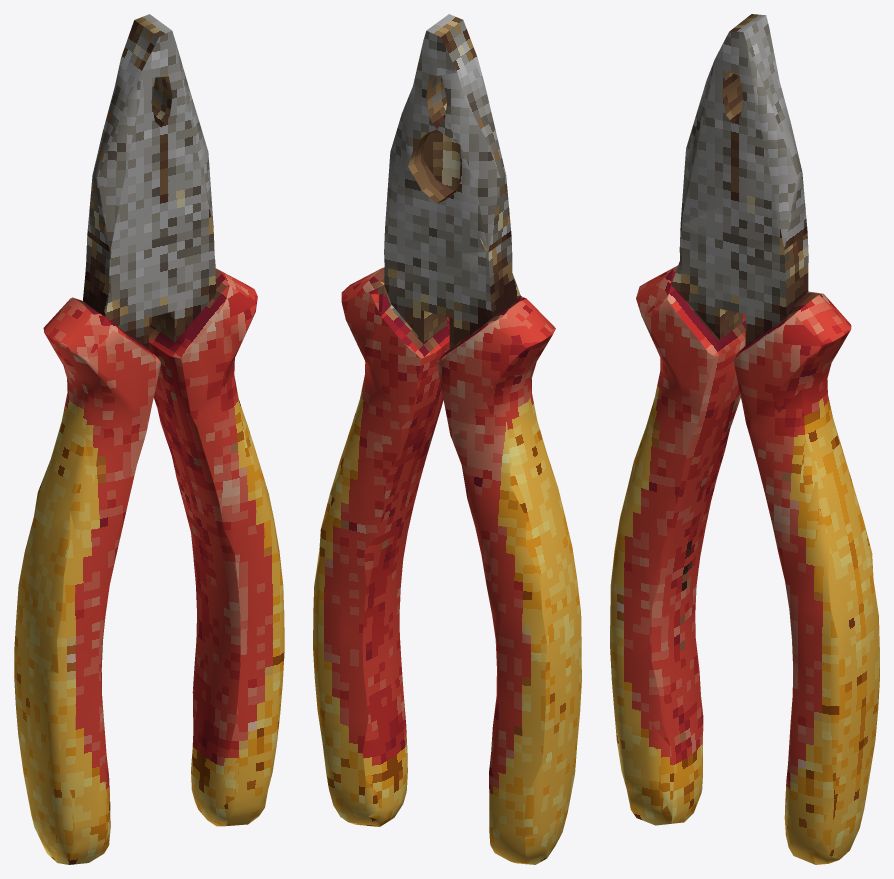
File: pliers.glb
3 views of the same model, side by side, from view 1: azimuth 30°, elevation 25°; view 2: azimuth 150°, elevation 25°; view 3: azimuth 330°, elevation 25° (orthographic).
Visible parts, largest first — view 1: body; view 2: body; view 3: body.
Part boxes in pixels (bbox=[...]): body: bbox=[14, 14, 284, 864]; body: bbox=[313, 14, 581, 864]; body: bbox=[610, 14, 879, 864].
Size of the model in its own units: 0.0553 by 0.1798 by 0.018.
Materials: 1 (1 with a texture image).
